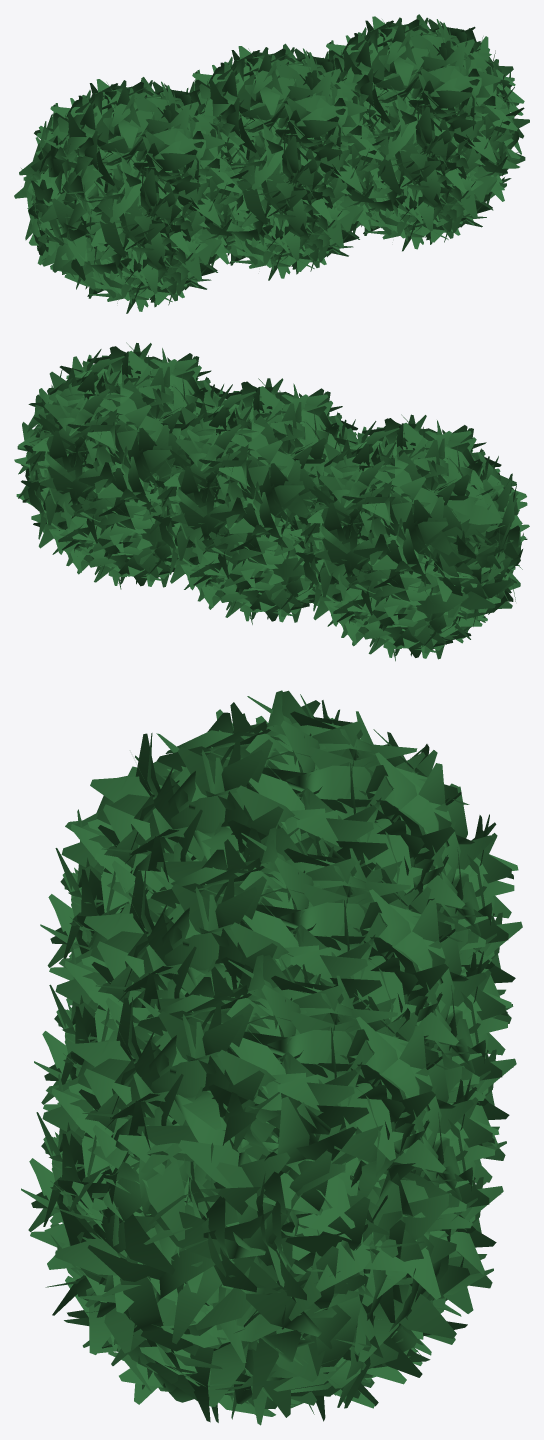
Rendered from libustriiiiin.fbx.
3 renders of one model, top to bottom at view 1: azimuth 30°, elevation 25°; view 2: azimuth 150°, elevation 25°; view 3: azimuth 270°, elevation 25°, orthographic. The views are drawn at different scales.
Parts seen in each view (by area): view 1: Плоскость.005; view 2: Плоскость.005; view 3: Плоскость.005.
Part boxes in pixels (x1,y1,x2,y2): Плоскость.005: [14, 14, 529, 313]; Плоскость.005: [14, 342, 529, 661]; Плоскость.005: [21, 690, 522, 1425].
Bounding box in the file's own units: 236 × 103 × 108.
